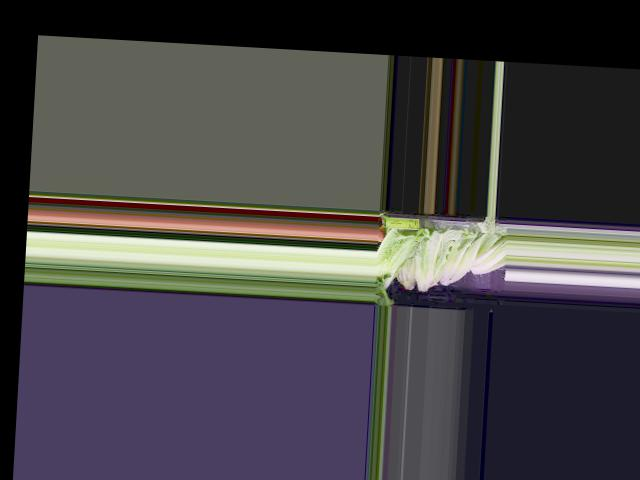lettuce: (467, 234, 508, 277)
